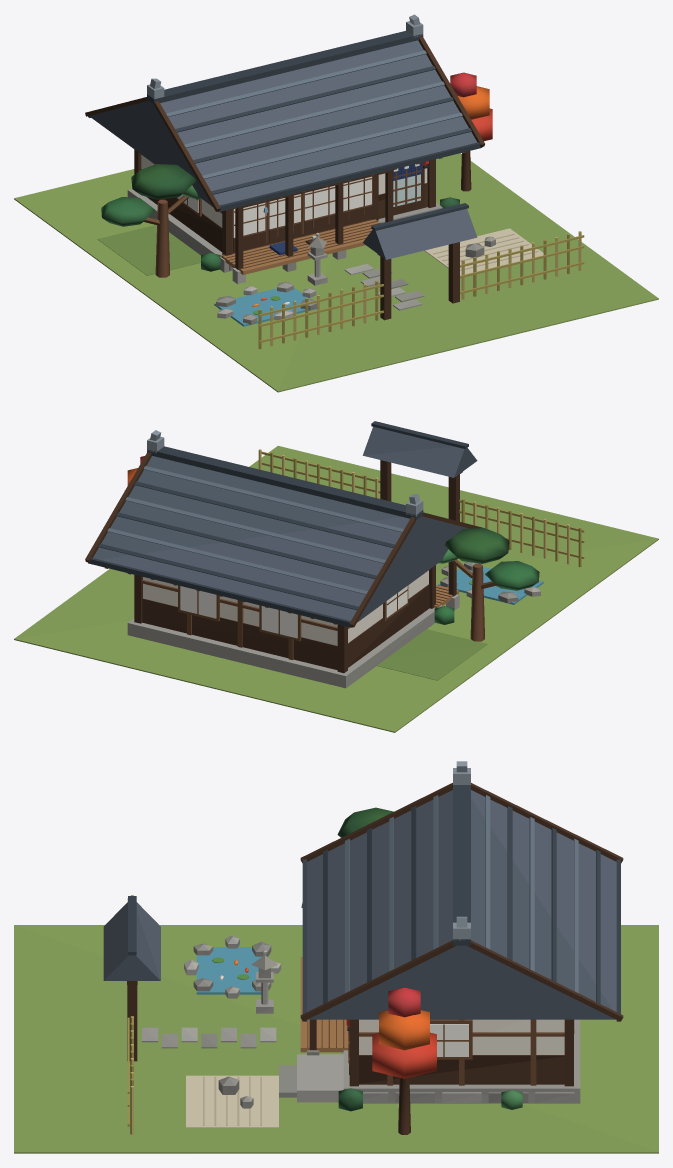
File: japanhouse.glb
The picture shows the model from 3 angles, top to bottom: view 1: azimuth 30°, elevation 25°; view 2: azimuth 150°, elevation 25°; view 3: azimuth 270°, elevation 25°; orthographic projection. The views are drawn at different scales.
Visible parts, largest first — view 1: Ground, Roof, Ridge Cap, Gate Roof, Ground Patch, Veranda Deck, Gravel Bed, Front Eave Edge, Pine Cloud Top, Pond, Foundation, Lower Wall (+23 smaller); view 2: Ground, Roof, Lower Wall, Foundation, Ridge Cap, Gate Roof, Ground Patch, Walls, Back Eave Edge, Pine Cloud Top, Back Tile Row 1, Back Tile Row 4 (+16 smaller); view 3: Ground, Roof, Lower Wall, Gravel Bed, Gate Roof, Walls, Foundation, Ridge Cap, Pond, Entrance Slab, Maple Foliage Low, Maple Foliage Mid (+27 smaller).
Boxes of the visible parts, x1,y1,x2,y2 form: Ground: (14,153,658,392); Roof: (89,40,477,206); Ridge Cap: (147,31,423,104); Gate Roof: (363,208,477,259); Ground Patch: (97,225,200,275); Veranda Deck: (221,219,379,274); Gravel Bed: (424,228,543,275); Front Eave Edge: (217,142,482,212); Pine Cloud Top: (131,164,195,199); Pond: (214,287,316,326); Foundation: (127,189,442,272); Lower Wall: (140,168,427,251); Ground: (14,446,658,732); Roof: (93,456,468,622); Lower Wall: (142,584,429,670); Foundation: (127,605,442,688); Ridge Cap: (147,446,423,519); Gate Roof: (362,426,477,477); Ground Patch: (377,629,487,680); Walls: (143,570,428,645); Back Eave Edge: (88,558,352,627); Pine Cloud Top: (444,528,509,563); Back Tile Row 1: (98,543,358,610); Back Tile Row 4: (125,497,385,563); Ground: (14,925,658,1153); Roof: (307,790,616,1019); Lower Wall: (359,1055,564,1084); Gravel Bed: (186,1075,278,1127); Gate Roof: (103,902,160,980); Walls: (359,1019,564,1054); Foundation: (343,1019,580,1103); Ridge Cap: (453,785,470,945); Pond: (196,947,268,994); Entrance Slab: (297,1054,343,1102); Maple Foliage Low: (372,1032,436,1078); Maple Foliage Mid: (379,1010,429,1050).
Size of the model in its own units: 16.1 by 6.16 by 18.
